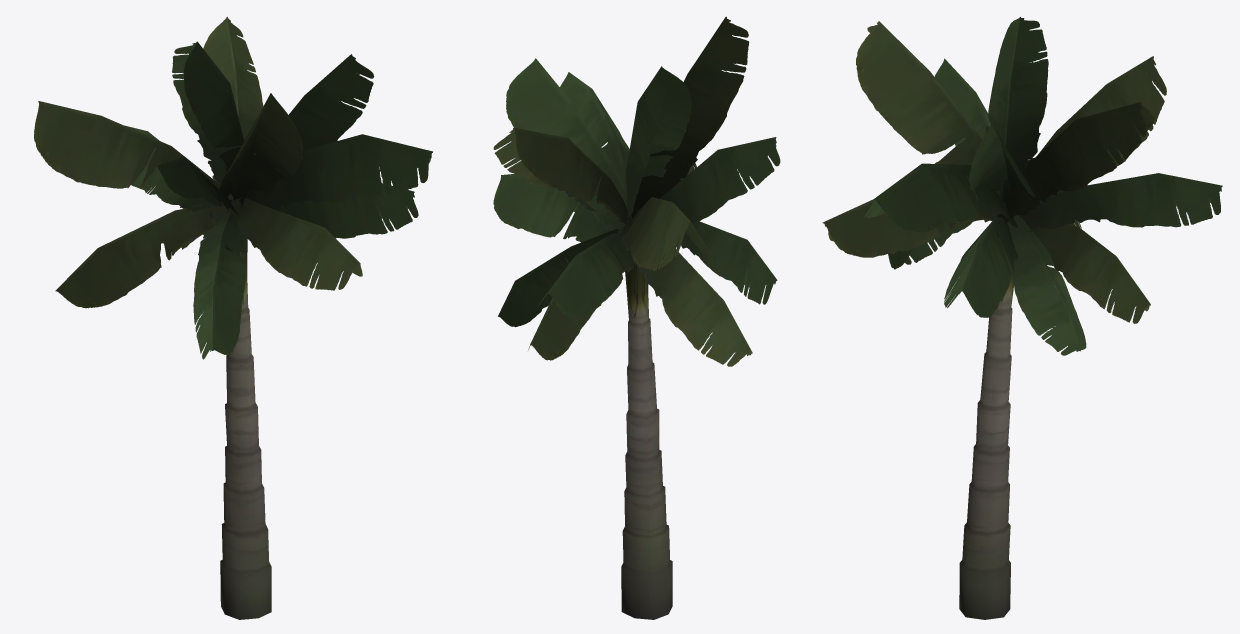
3 renders of one model, left to right at view 1: azimuth 30°, elevation 25°; view 2: azimuth 150°, elevation 25°; view 3: azimuth 270°, elevation 25°, orthographic. The views are drawn at different scales.
Visible parts, largest first — view 1: body0_model0_lod0_mesh0; view 2: body0_model0_lod0_mesh0; view 3: body0_model0_lod0_mesh0.
Boxes of the visible parts, x1,y1,x2,y2 form: body0_model0_lod0_mesh0: [34, 16, 432, 619]; body0_model0_lod0_mesh0: [493, 16, 780, 619]; body0_model0_lod0_mesh0: [822, 17, 1222, 619].
Bounding box in the file's own units: 168 × 277 × 176.
1 material, 1 textured.
